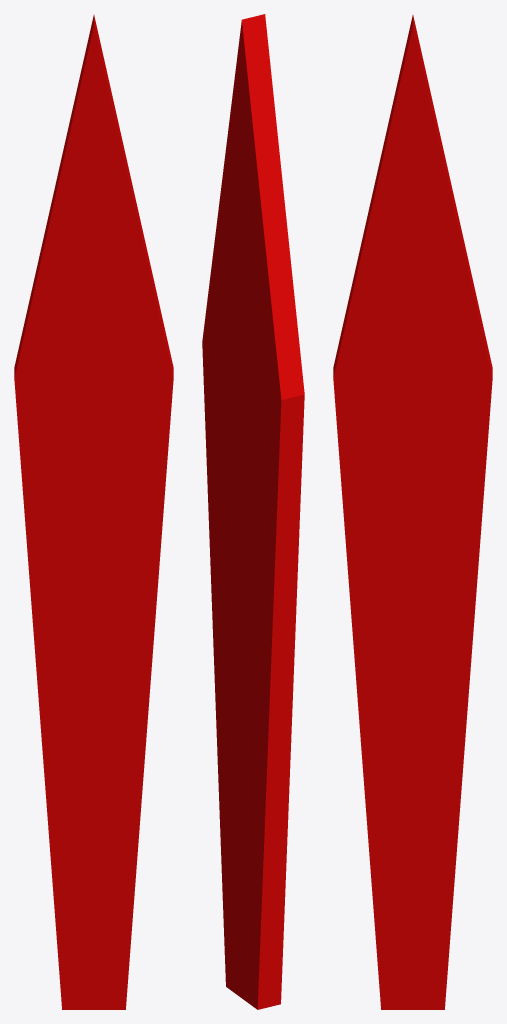
File: grass_blade.fbx
3 renders of one model, left to right at view 1: azimuth 90°, elevation 25°; view 2: azimuth 210°, elevation 25°; view 3: azimuth 270°, elevation 25°, orthographic.
Visible parts, largest first — view 1: Model; view 2: Model; view 3: Model.
Part boxes in pixels (x1,y1,x2,y2): Model: [14, 15, 173, 1009]; Model: [202, 14, 304, 1009]; Model: [333, 15, 492, 1009].
Size of the model in its own units: 0.17 by 6.82 by 1.
